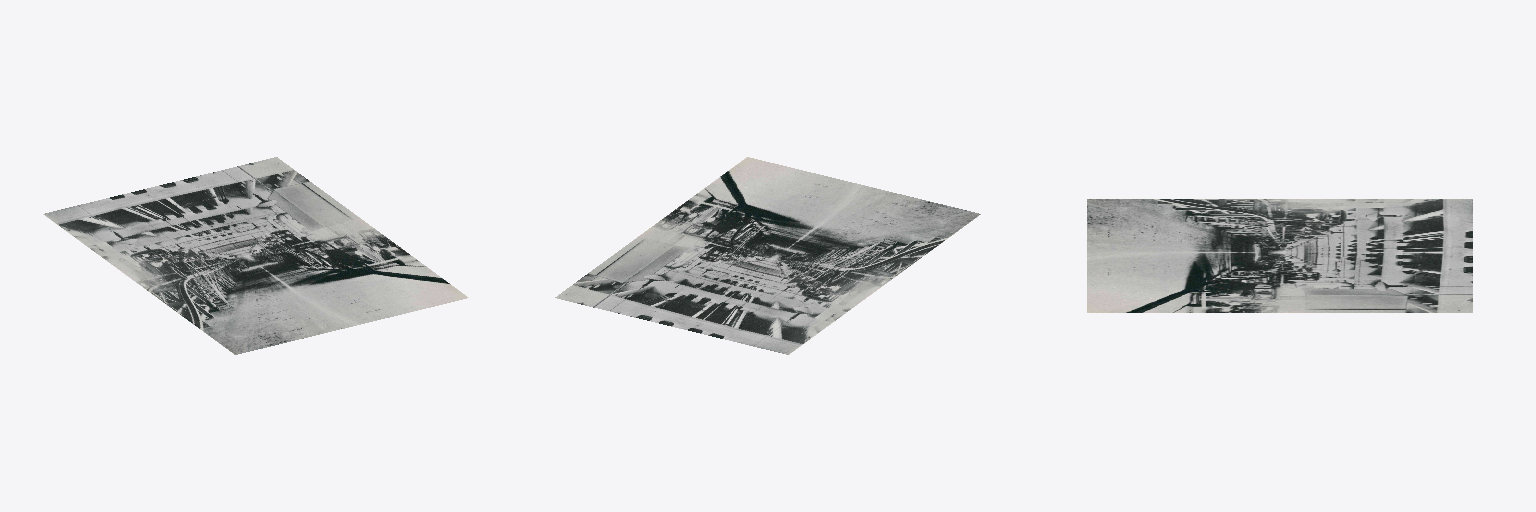
3 views of the same model, side by side, from view 1: azimuth 30°, elevation 25°; view 2: azimuth 150°, elevation 25°; view 3: azimuth 270°, elevation 25° (orthographic).
Parts seen in each view (by area): view 1: Plane001; view 2: Plane001; view 3: Plane001.
Part boxes in pixels (left/top/right/bottom): Plane001: left=43, top=157, right=468, bottom=354; Plane001: left=555, top=157, right=980, bottom=354; Plane001: left=1087, top=199, right=1472, bottom=312.
Bounding box in the file's own units: 3.48 × 0 × 4.96.
Materials: 1 (1 with a texture image).